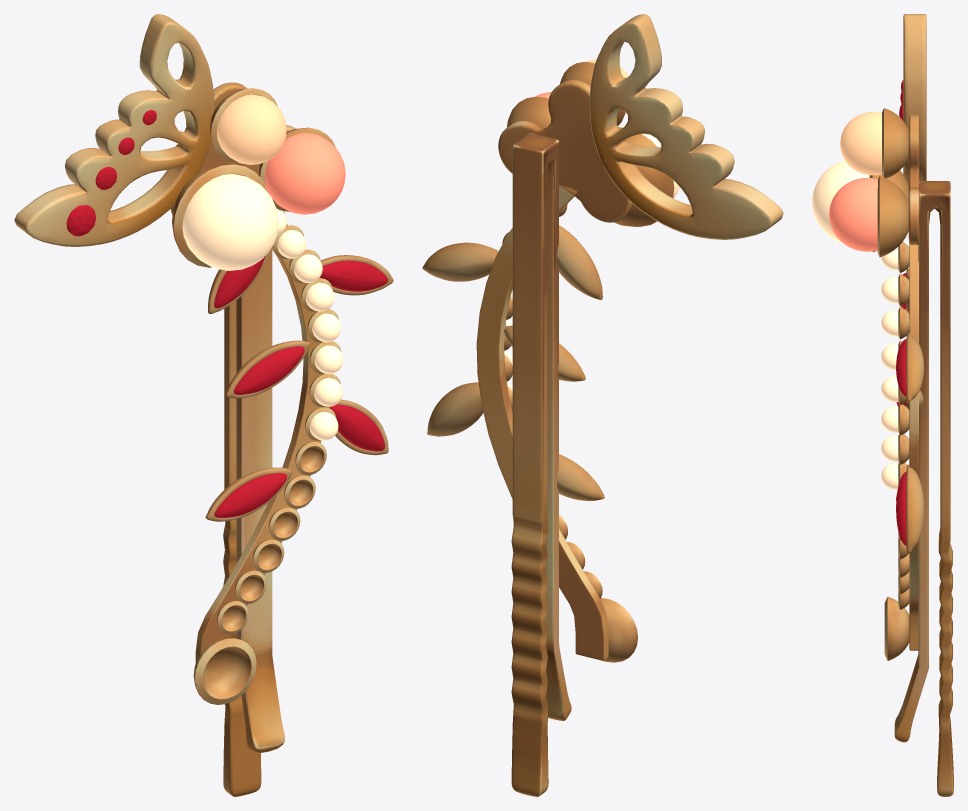
3 views of the same model, side by side, from view 1: azimuth 30°, elevation 25°; view 2: azimuth 150°, elevation 25°; view 3: azimuth 270°, elevation 25° (orthographic). The views are drawn at different scales.
Visible parts, largest first — view 1: hairakuse; view 2: hairakuse; view 3: hairakuse.
Boxes of the visible parts, box(x1,y1,x2,y2) form: hairakuse: box(14, 14, 393, 796); hairakuse: box(422, 14, 783, 796); hairakuse: box(812, 14, 953, 796).
Bounding box in the file's own units: 72.64 × 152 × 26.6.
